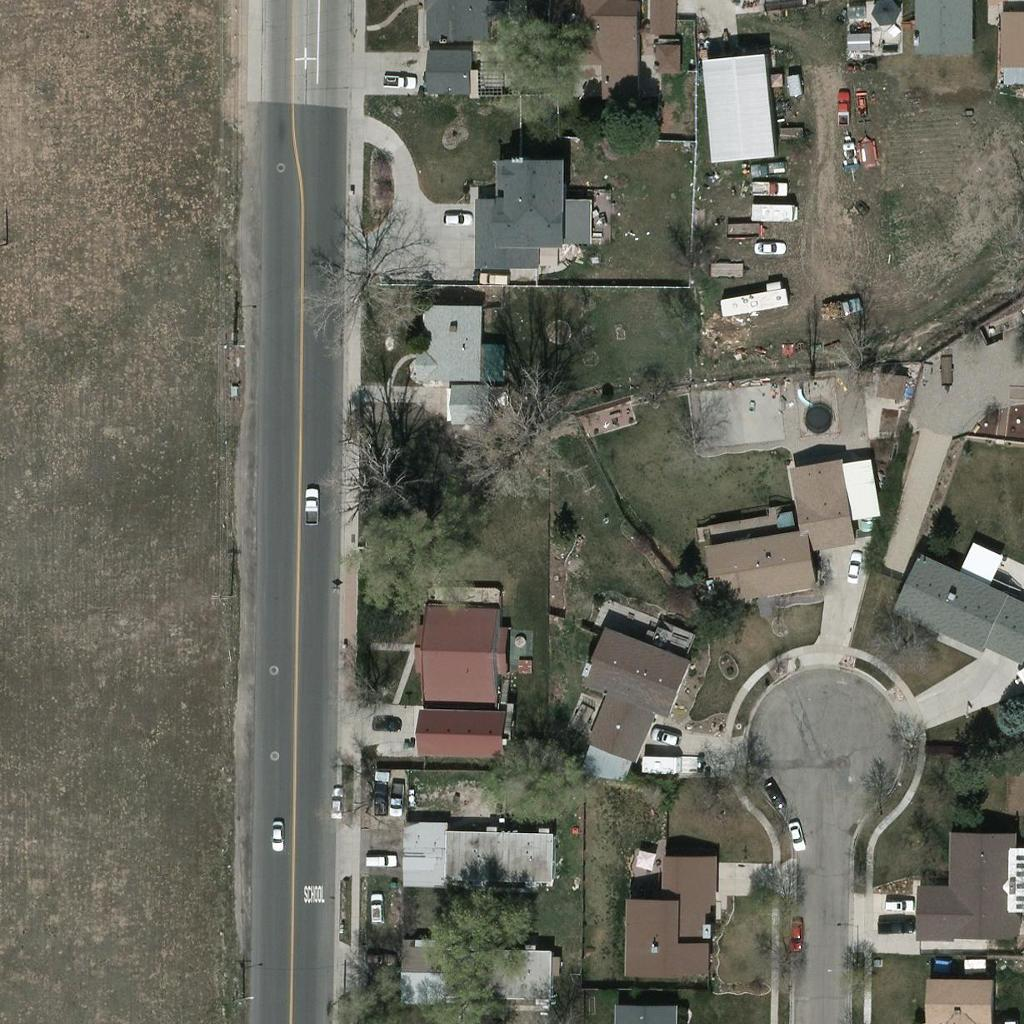car: (383, 62, 417, 96), (824, 86, 858, 120), (745, 151, 779, 185), (756, 169, 790, 203), (433, 200, 467, 234), (749, 229, 783, 263), (479, 261, 513, 295), (294, 485, 328, 519), (835, 550, 869, 584), (365, 705, 399, 739), (648, 720, 682, 754), (756, 777, 790, 811), (364, 779, 398, 813), (378, 782, 412, 816), (316, 785, 350, 819), (260, 816, 294, 850), (777, 816, 811, 850), (363, 842, 397, 876), (878, 887, 912, 921), (358, 891, 392, 925), (879, 907, 913, 941), (777, 914, 811, 948), (360, 941, 394, 975)
